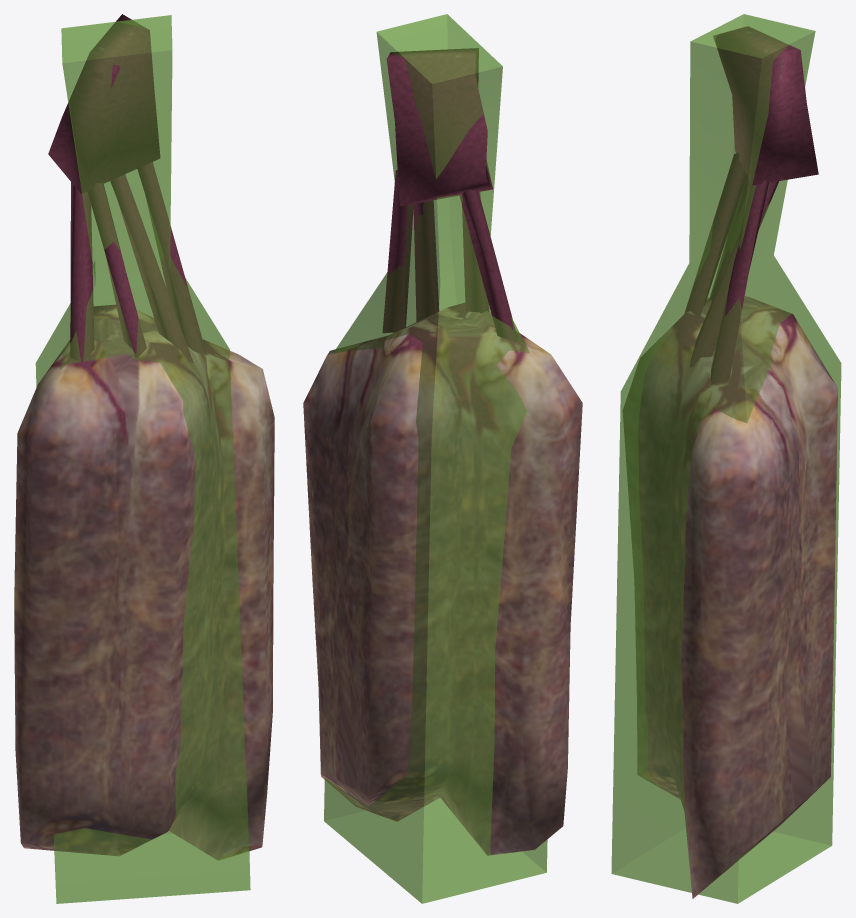
The model's file is pg_Chorizo_01_e.fbx.
3 views of the same model, side by side, from view 1: azimuth 30°, elevation 25°; view 2: azimuth 150°, elevation 25°; view 3: azimuth 270°, elevation 25° (orthographic).
Visible parts, largest first — view 1: pg_Chorizo_01_e_LOD0, pg_Chorizo_01_e_col; view 2: pg_Chorizo_01_e_LOD0, pg_Chorizo_01_e_col; view 3: pg_Chorizo_01_e_LOD0, pg_Chorizo_01_e_col.
Boxes of the visible parts, x1,y1,x2,y2 form: pg_Chorizo_01_e_LOD0: (14,14,274,860); pg_Chorizo_01_e_col: (35,15,250,903); pg_Chorizo_01_e_LOD0: (303,48,582,855); pg_Chorizo_01_e_col: (324,14,547,903); pg_Chorizo_01_e_LOD0: (623,26,837,898); pg_Chorizo_01_e_col: (611,14,841,903).
Size of what is drawn, in the model's own units: 13.19 by 41.56 by 10.48.
